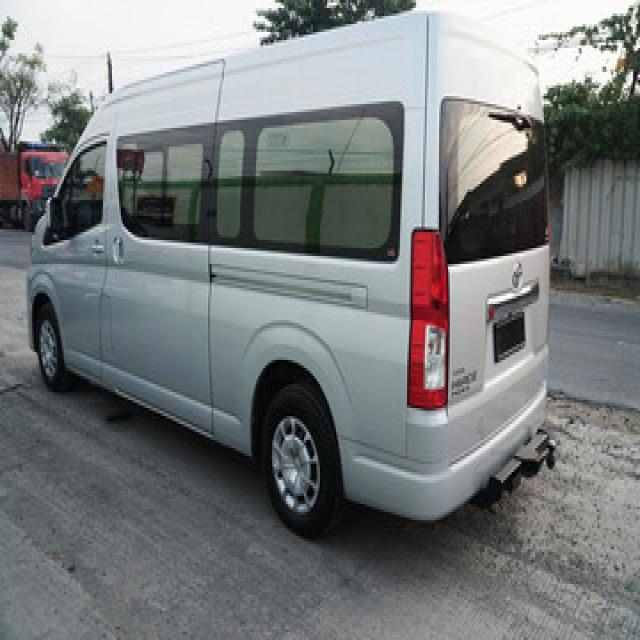van: (27, 13, 553, 536)
